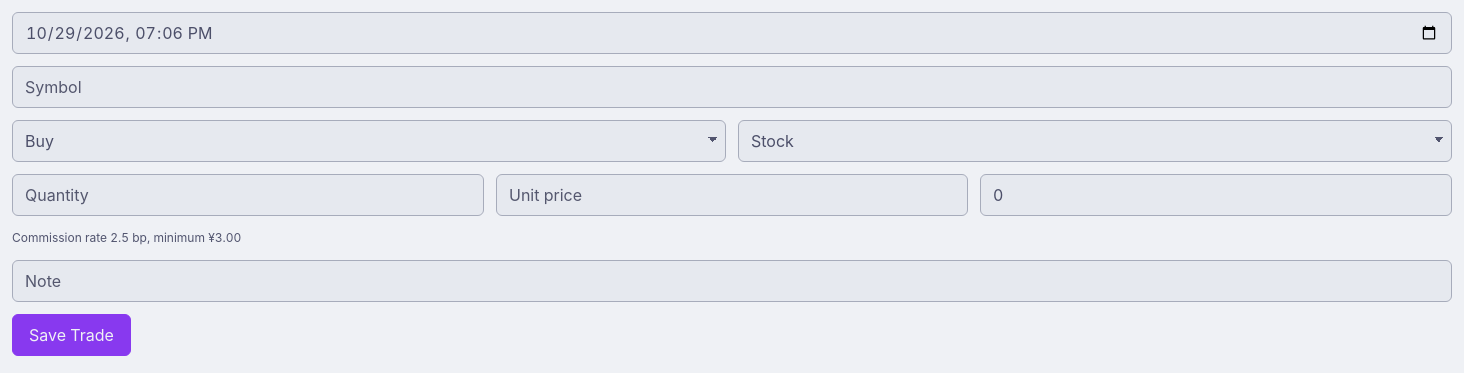
Scenario: prefills manual trade fee from account commission settings
Type "200" into the number field labelled "Quantity" at (248, 195), box [12,174,484,216]
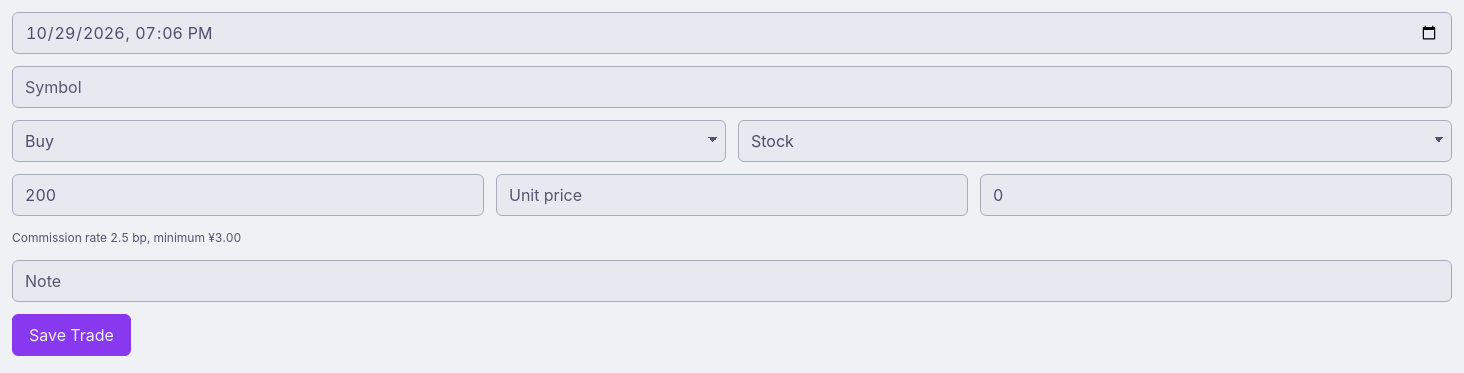
Type "28.82" into the number field labelled "Unit price" at (732, 195), box [496,174,968,216]
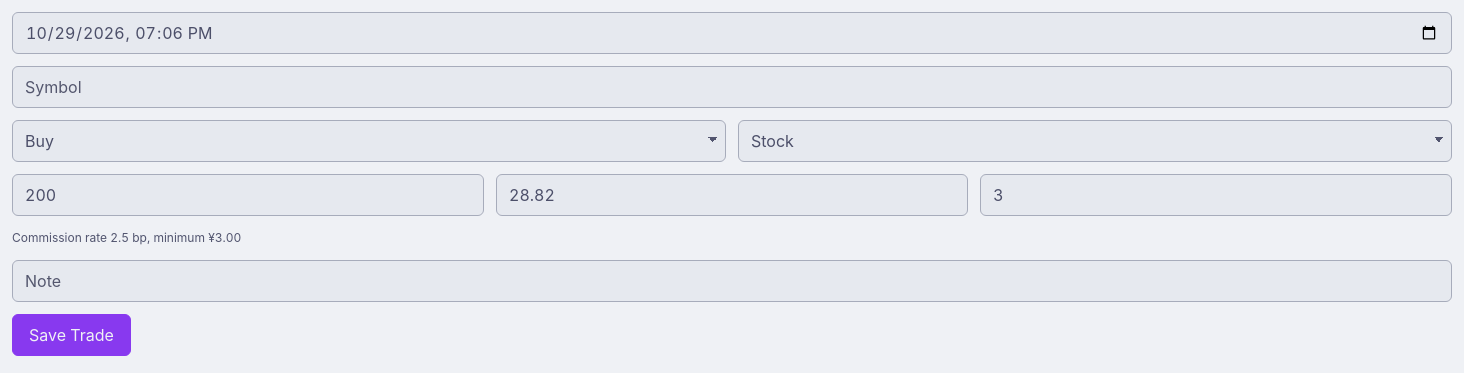
Expected: the text "Commission rate 2.5 bp, minimum ¥3.00" is shown, [12,230,241,245]
Now the number field named "Fee" holds "3", box [980,174,1452,216]
